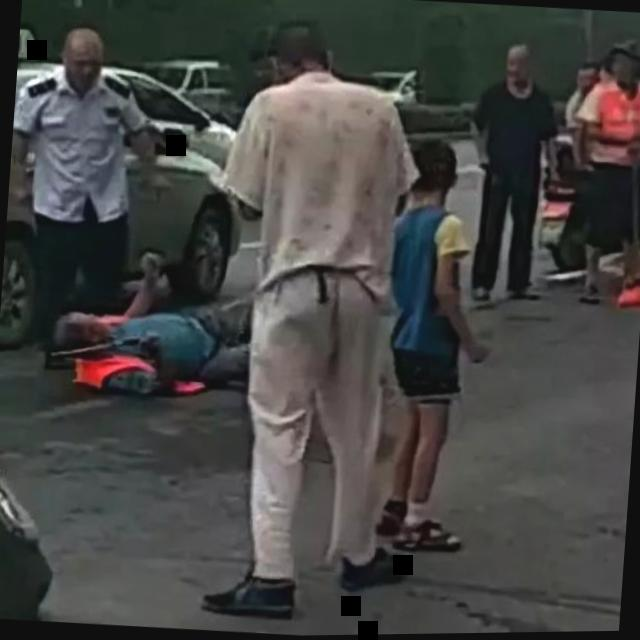Fall-Detected: (41, 257, 268, 416)
